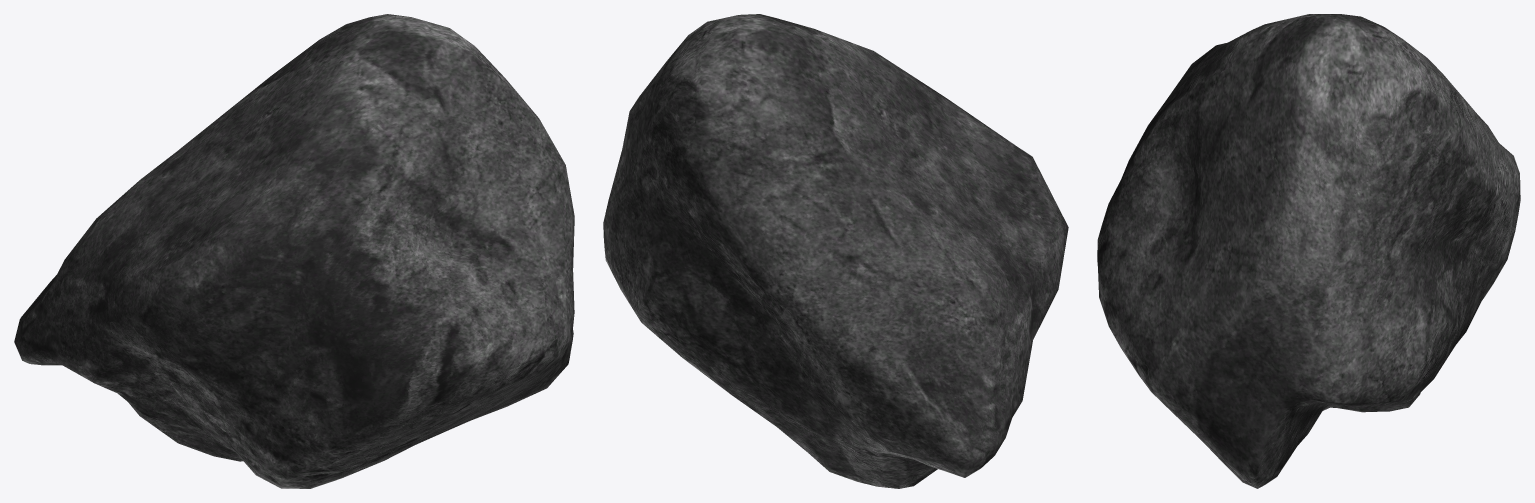
File: steinarrock.glb
3 views of the same model, side by side, from view 1: azimuth 30°, elevation 25°; view 2: azimuth 150°, elevation 25°; view 3: azimuth 270°, elevation 25° (orthographic). The views are drawn at different scales.
Parts seen in each view (by area): view 1: SteinarRock; view 2: SteinarRock; view 3: SteinarRock.
Boxes of the visible parts, x1,y1,x2,y2 form: SteinarRock: (14,14,574,488); SteinarRock: (603,14,1068,488); SteinarRock: (1097,14,1520,488).
Size of the model in its own units: 1.24 by 1.06 by 0.8999.
1 material, 1 textured.
